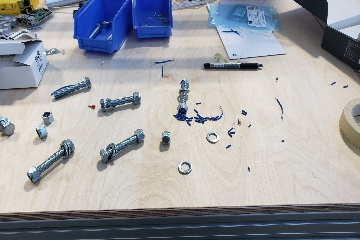Bolt: (52, 74, 94, 103)
FalseAssembly: (100, 88, 143, 115), (174, 76, 192, 117)
FinishedAssembly: (23, 135, 82, 190), (97, 127, 145, 168)
Nut: (40, 109, 56, 127), (33, 124, 49, 141), (159, 129, 171, 149)
Washer: (175, 158, 194, 177), (205, 129, 221, 147)
